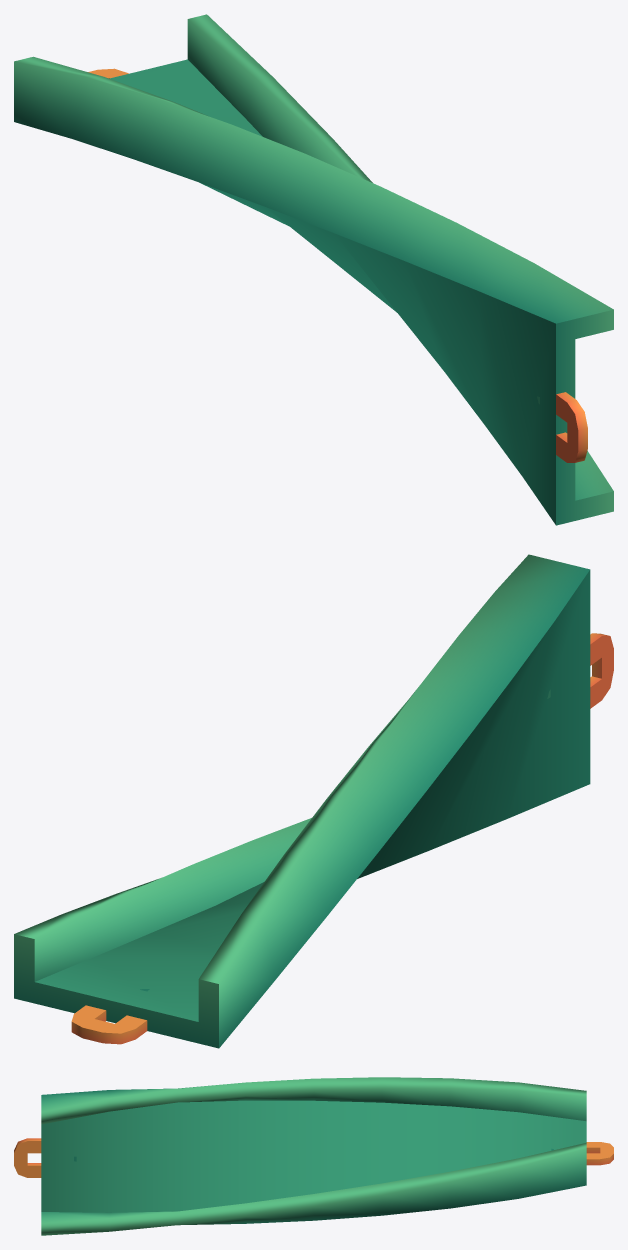
Rendered from track-narrow-straight-skew-left-side.fbx.
The picture shows the model from 3 angles, top to bottom: view 1: azimuth 30°, elevation 25°; view 2: azimuth 150°, elevation 25°; view 3: azimuth 270°, elevation 25°; orthographic projection. The views are drawn at different scales.
Visible parts, largest first — view 1: track-narrow-straight-skew-left-side; view 2: track-narrow-straight-skew-left-side; view 3: track-narrow-straight-skew-left-side.
Boxes of the visible parts, left/top/right/bottom form: track-narrow-straight-skew-left-side: left=14, top=14, right=613, bottom=525; track-narrow-straight-skew-left-side: left=14, top=554, right=613, bottom=1048; track-narrow-straight-skew-left-side: left=14, top=1077, right=613, bottom=1235.
Size of the model in its own units: 108 by 108 by 440.
